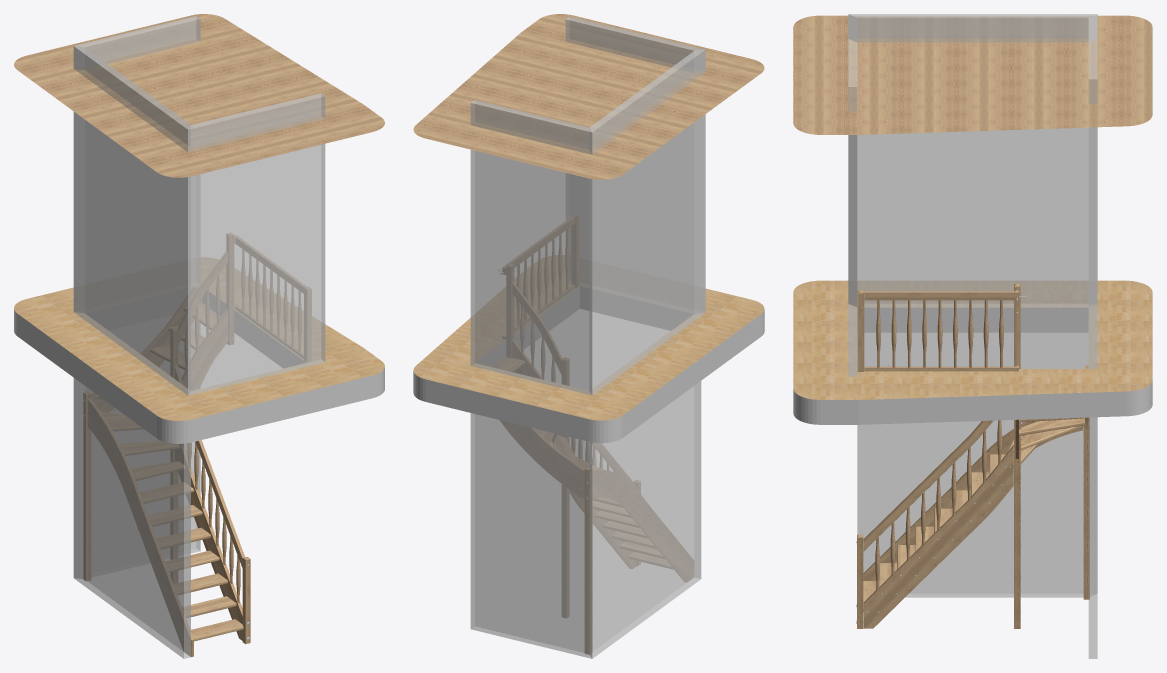
The picture shows the model from 3 angles, left to right: view 1: azimuth 30°, elevation 25°; view 2: azimuth 150°, elevation 25°; view 3: azimuth 270°, elevation 25°; orthographic projection. The views are drawn at different scales.
Visible parts, largest first — view 1: StairCon (×27); view 2: StairCon (×15); view 3: StairCon (×18).
Part boxes in pixels (x1,y1,x2,y2): StairCon (×27): (14,14,384,658); StairCon (×15): (413,14,764,658); StairCon (×18): (793,14,1152,658).
Size of what is drawn, in the model's own units: 3.09 by 3.93 by 7.
Materials: 14 (8 with a texture image).
